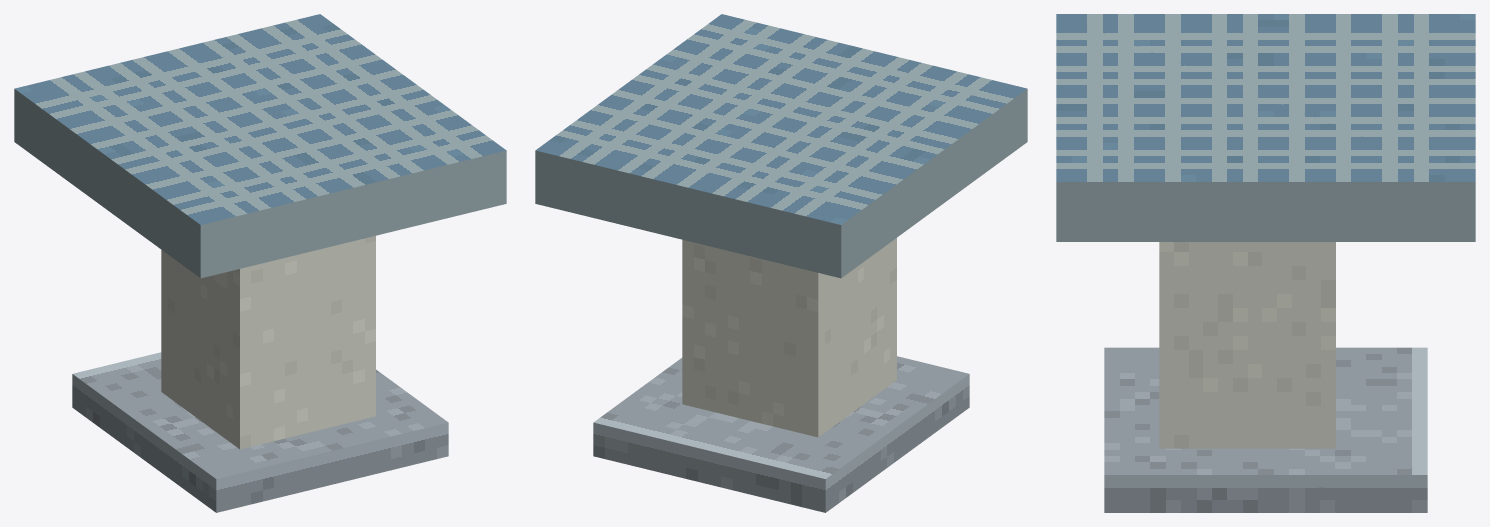
Rendered from f_dive_block.glb.
3 renders of one model, left to right at view 1: azimuth 30°, elevation 25°; view 2: azimuth 150°, elevation 25°; view 3: azimuth 270°, elevation 25°, orthographic. The views are drawn at different scales.
Visible parts, largest first — view 1: block_non-slip-platform, block_support, block_base; view 2: block_non-slip-platform, block_support, block_base; view 3: block_non-slip-platform, block_support, block_base.
Boxes of the visible parts, left/top/right/bottom form: block_non-slip-platform: left=14, top=14, right=506, bottom=278; block_support: left=161, top=235, right=375, bottom=449; block_base: left=72, top=352, right=448, bottom=512; block_non-slip-platform: left=535, top=14, right=1027, bottom=278; block_support: left=682, top=238, right=896, bottom=437; block_base: left=593, top=356, right=969, bottom=512; block_non-slip-platform: left=1056, top=14, right=1475, bottom=241; block_support: left=1159, top=242, right=1335, bottom=448; block_base: left=1104, top=347, right=1427, bottom=512.
Bounding box in the file's own units: 0.54 × 0.527 × 0.57.
Materials: 1 (1 with a texture image).
